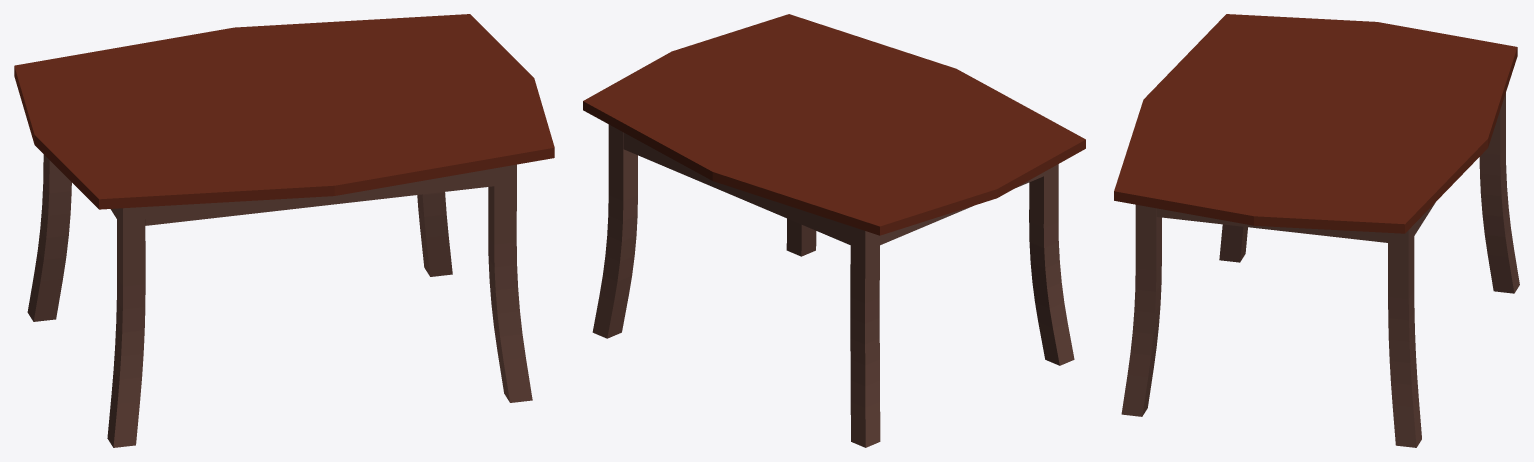
Rendered from Table.obj.
3 renders of one model, left to right at view 1: azimuth 30°, elevation 25°; view 2: azimuth 150°, elevation 25°; view 3: azimuth 270°, elevation 25°, orthographic. The views are drawn at different scales.
Visible parts, largest first — view 1: Box001, Box004, Box005, Box007, Box003, Box002; view 2: Box001, Box003, Box002, Box004, Box006, Box005, Box009; view 3: Box001, Box002, Box005, Box003, Box008, Box004.
Part boxes in pixels (bbox=[...]): Box001: bbox=[14, 14, 554, 209]; Box004: bbox=[107, 207, 145, 447]; Box005: bbox=[488, 164, 532, 402]; Box007: bbox=[145, 168, 494, 225]; Box003: bbox=[27, 154, 71, 321]; Box002: bbox=[417, 192, 452, 276]; Box001: bbox=[583, 14, 1085, 235]; Box003: bbox=[850, 226, 880, 447]; Box002: bbox=[592, 124, 637, 338]; Box004: bbox=[1029, 164, 1074, 365]; Box006: bbox=[623, 133, 850, 244]; Box005: bbox=[786, 218, 816, 256]; Box009: bbox=[880, 172, 1043, 245]; Box001: bbox=[1114, 14, 1517, 233]; Box002: bbox=[1388, 224, 1421, 447]; Box005: bbox=[1121, 204, 1161, 416]; Box003: bbox=[1479, 93, 1519, 293]; Box008: bbox=[1156, 208, 1387, 242]; Box004: bbox=[1219, 224, 1247, 262].
Size of the model in its own units: 530767 by 272424 by 433136.
